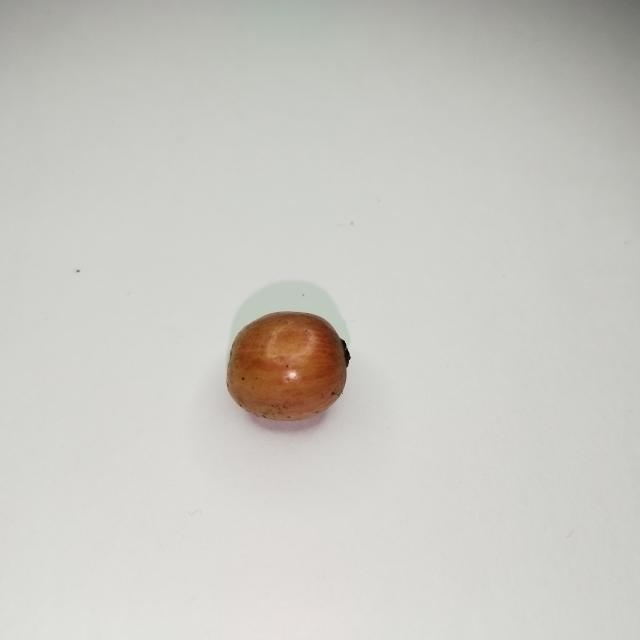Sano: (227, 303, 349, 422)
